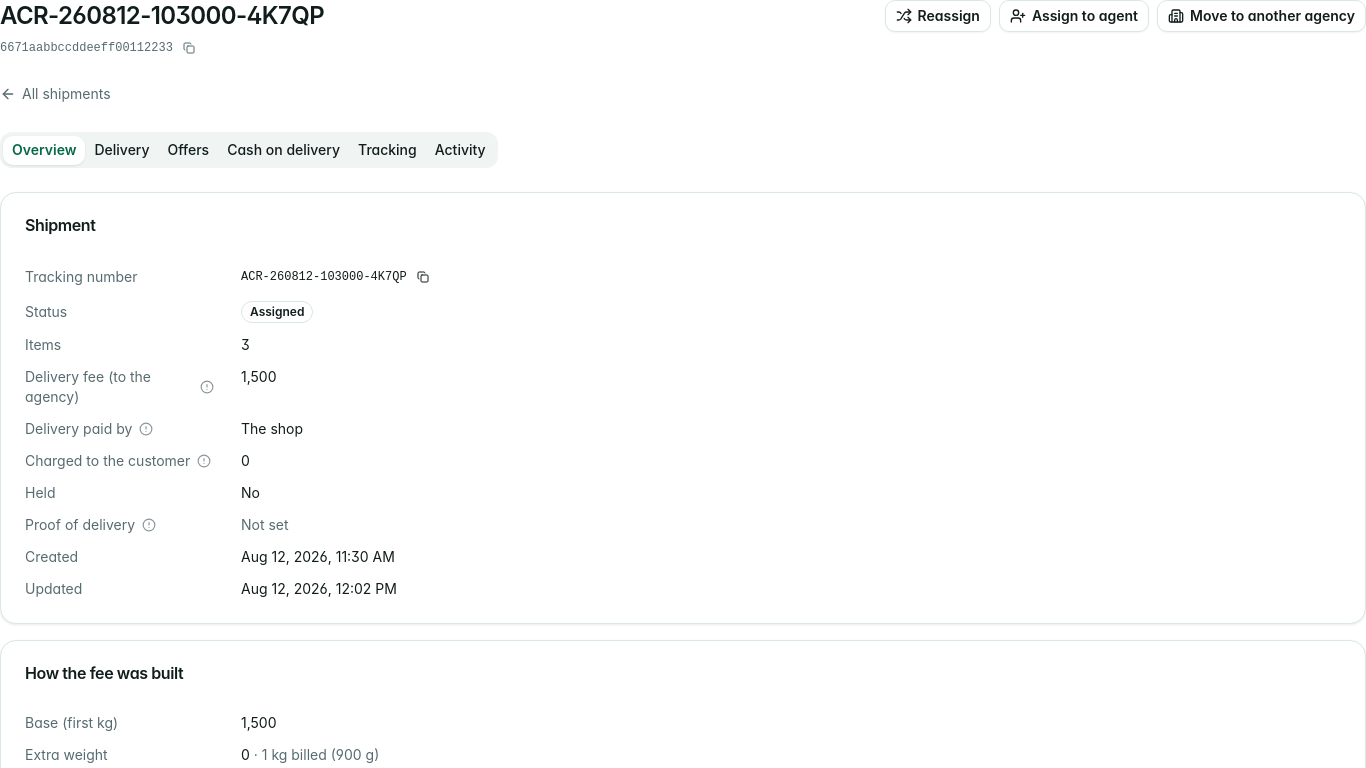
Test: assign to agent › requires a reason of at least three characters
Click the button "Assign to agent".
click(1074, 16)  # box [999,0,1149,32]
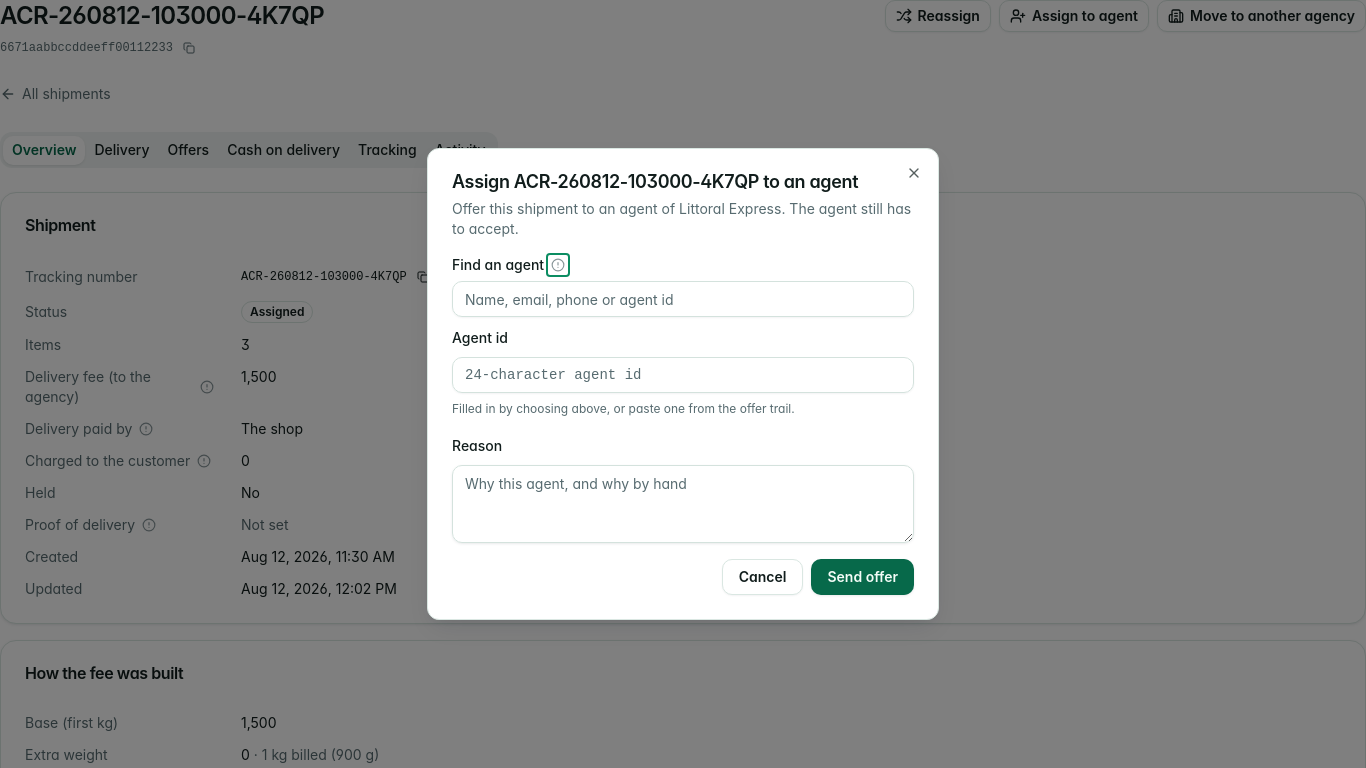
Type "6660112233445566778899aa" into the field labelled "Agent id".
click(683, 375); type("6660112233445566778899aa")  # box [452,357,914,393]
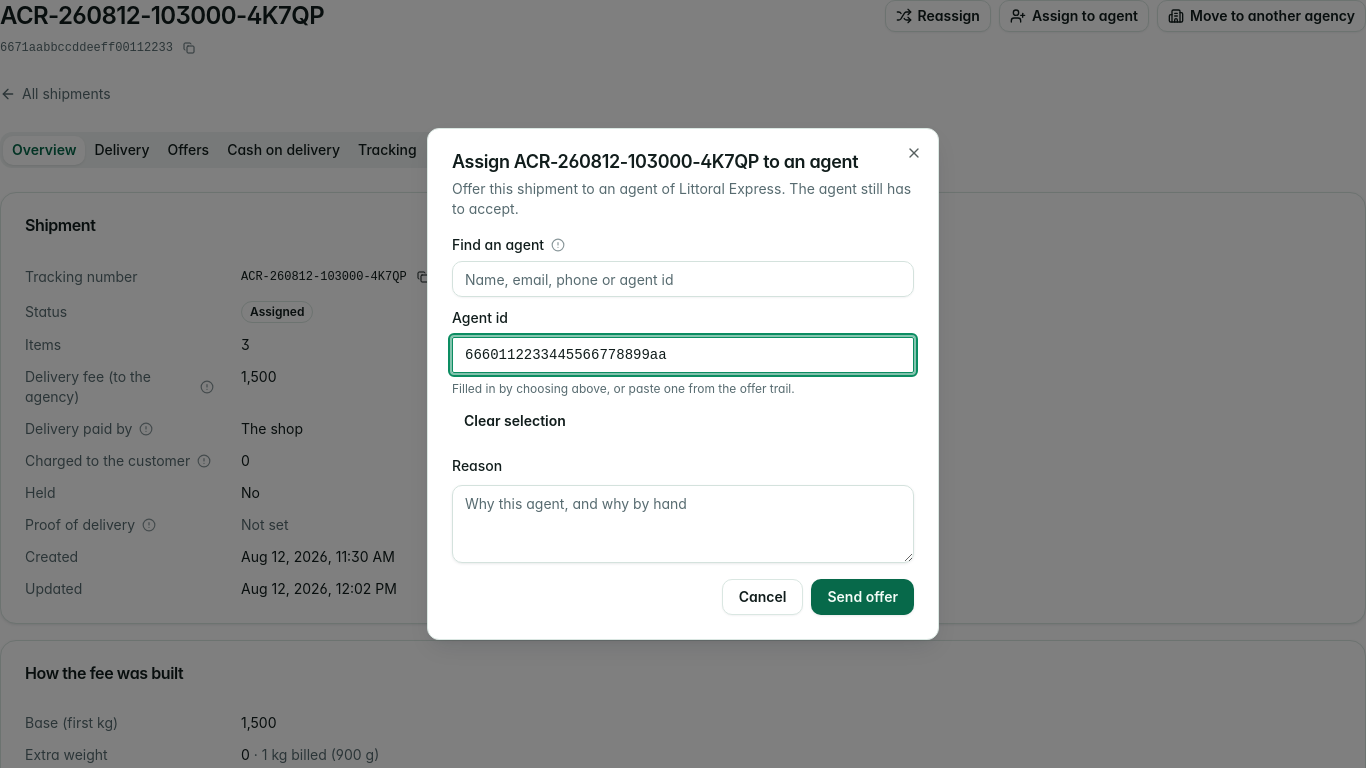
Type "no" into the text box labelled "Reason".
click(683, 524); type("no")  # box [452,485,914,563]
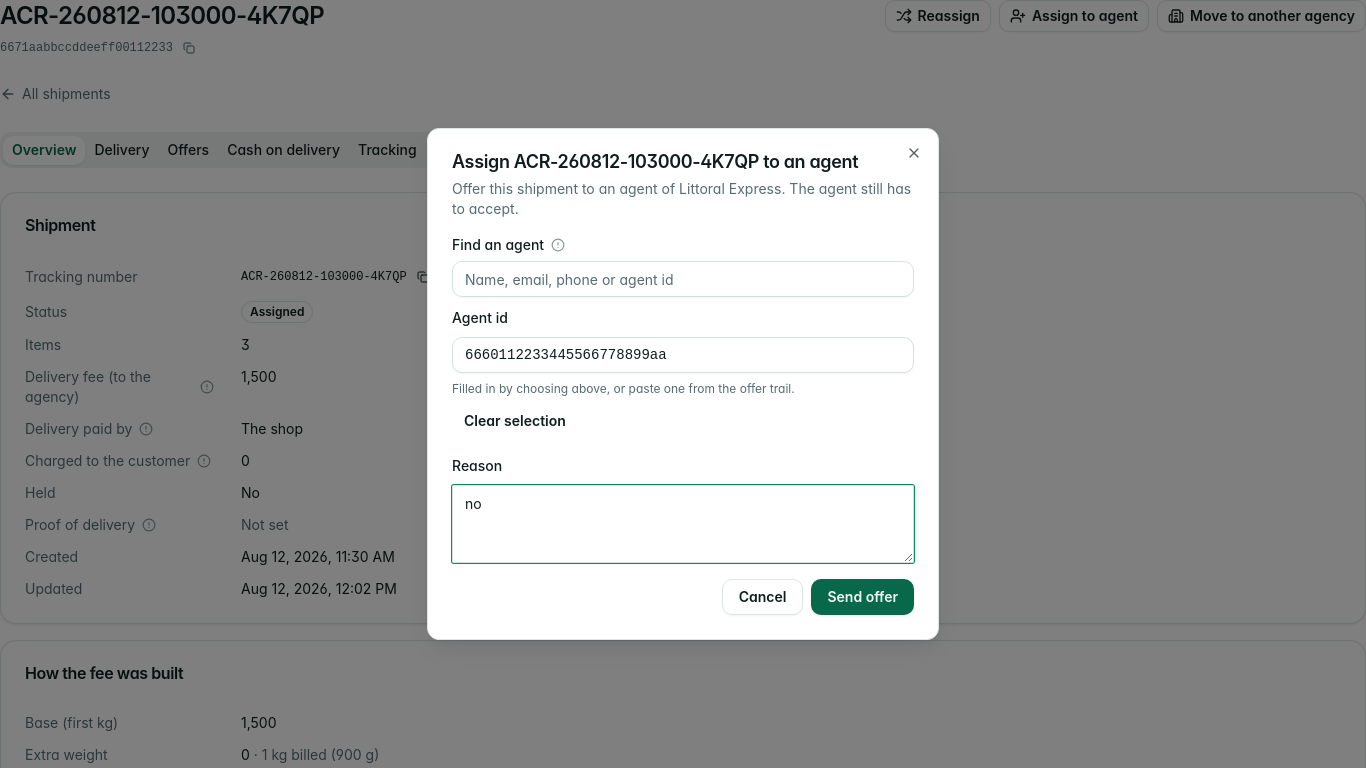
Click the button "Send offer".
click(863, 597)  # box [812,579,914,615]
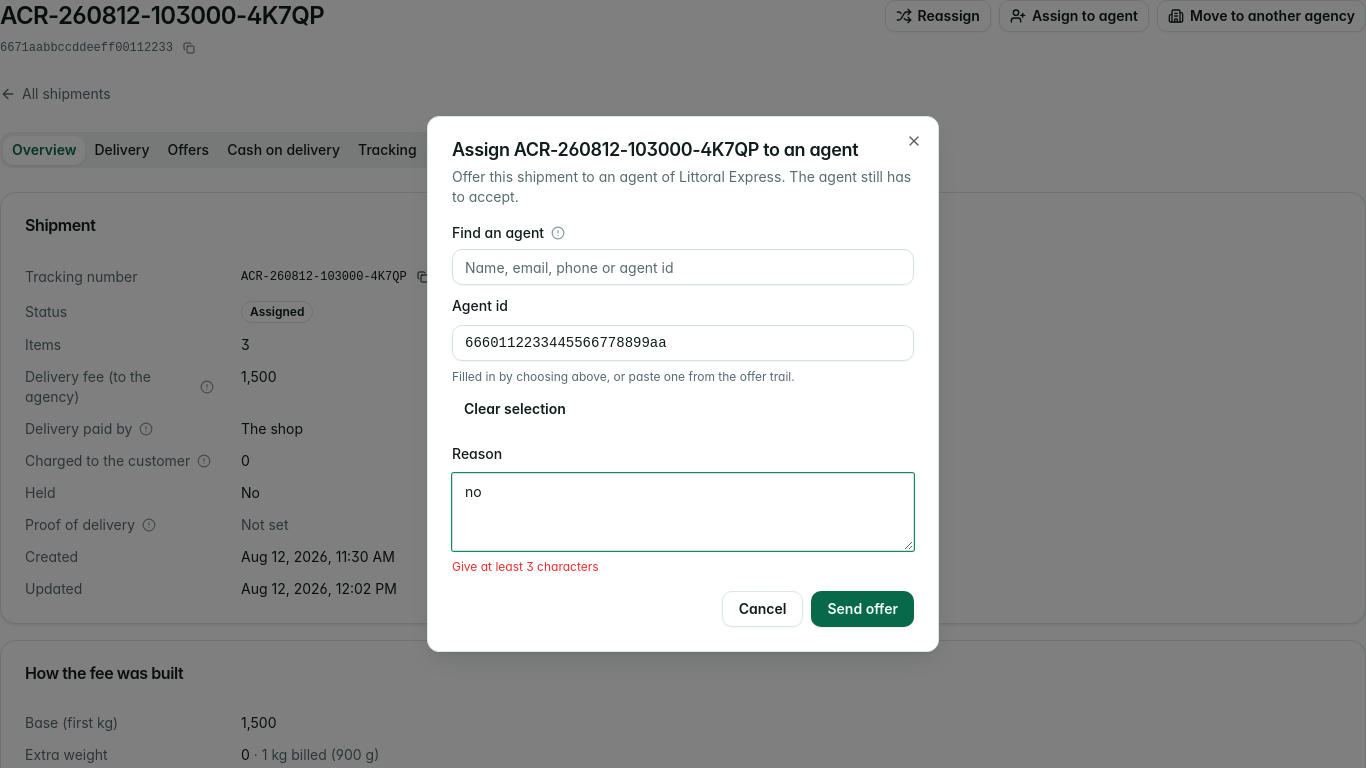
Check: the text "Give at least 3 characters" is shown, box [452,559,599,574]
